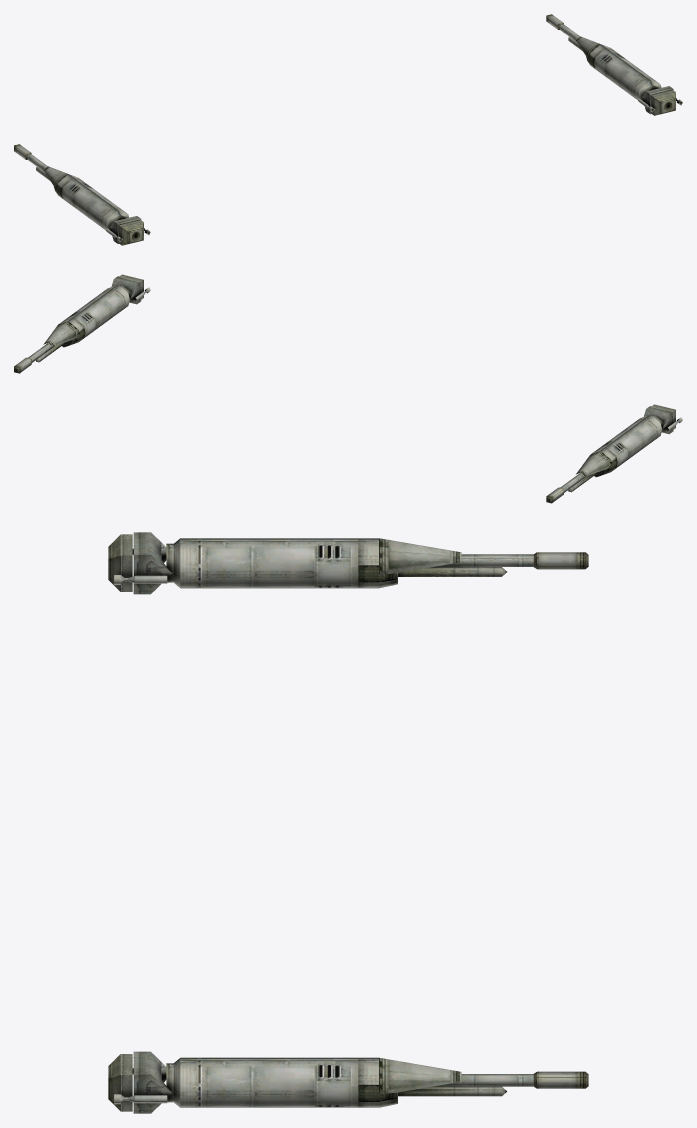
File: z95_weapon_s03_l1.fbx
The picture shows the model from 3 angles, top to bottom: view 1: azimuth 30°, elevation 25°; view 2: azimuth 150°, elevation 25°; view 3: azimuth 270°, elevation 25°; orthographic projection. The views are drawn at different scales.
Visible parts, largest first — view 1: mesh_node; view 2: mesh_node; view 3: mesh_node.
Boxes of the visible parts, x1,y1,x2,y2 form: mesh_node: [14, 14, 682, 245]; mesh_node: [14, 274, 682, 503]; mesh_node: [108, 532, 588, 1113].
Size of the model in its own units: 15.58 by 0.6605 by 5.74.
